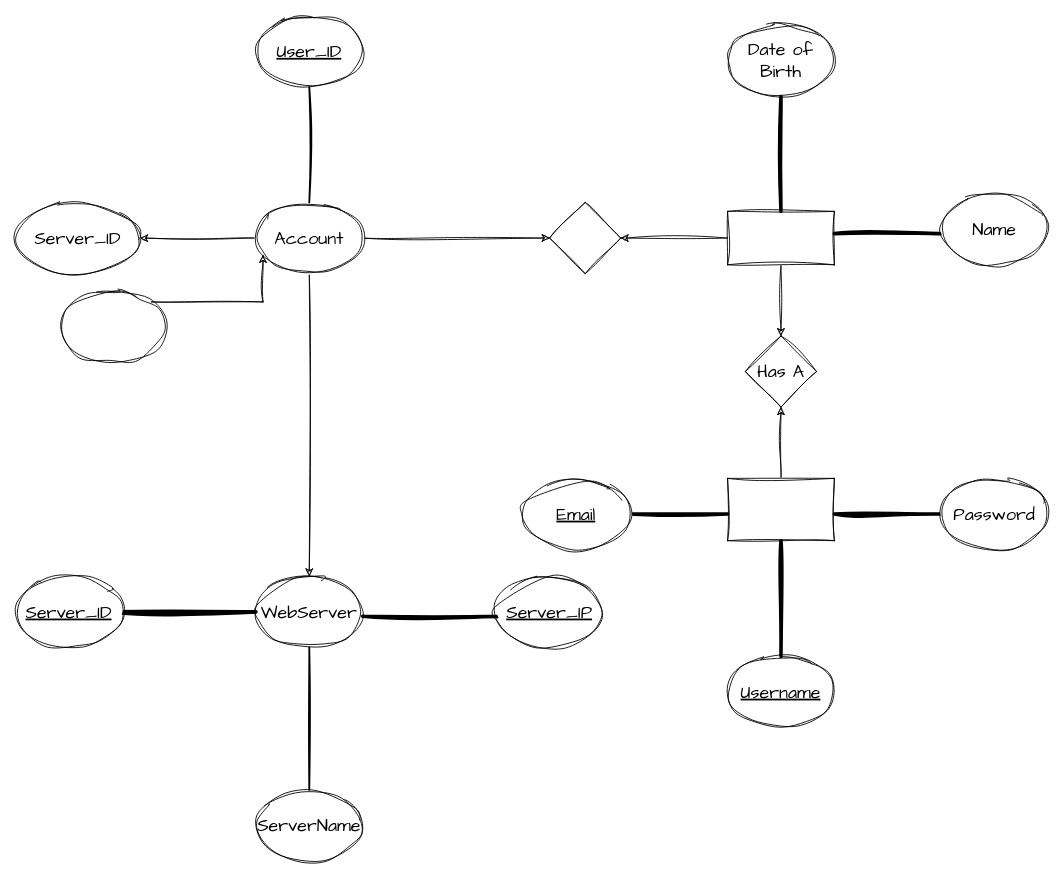
This 1064x877 diagram has some shape labels left out. Each missing label, with the centre of its shape:
Acc_Info: the point at 113,327
Belongs: the point at 585,238
Profile: the point at 780,237
User: the point at 780,509
